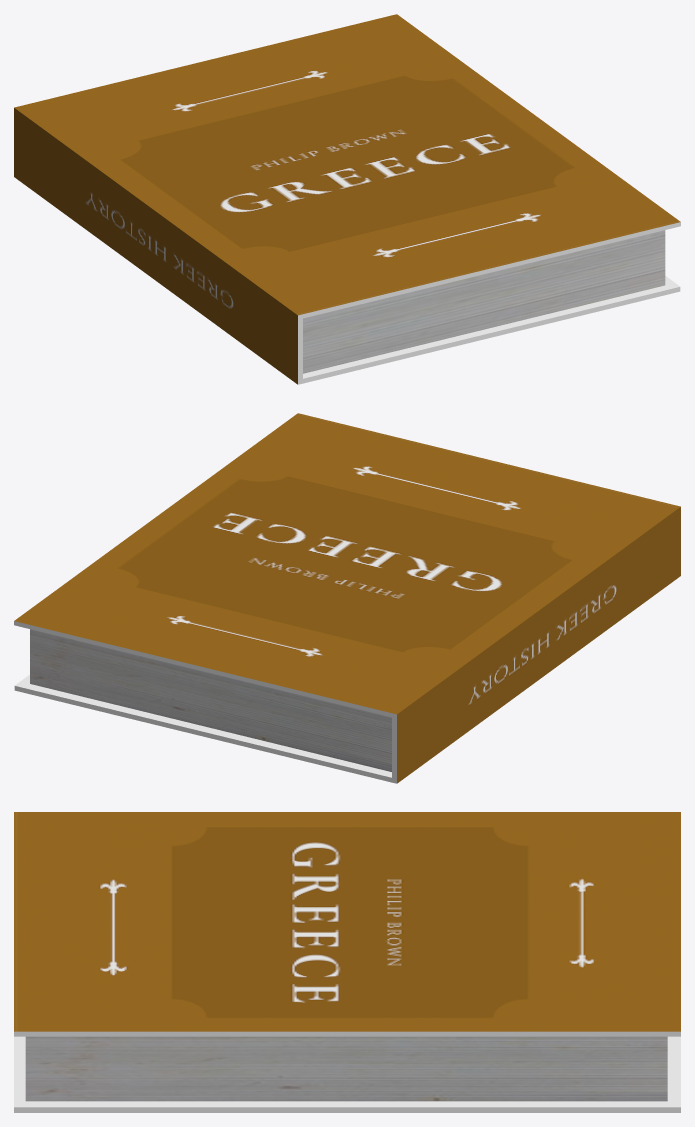
Rendered from Book 2.fbx.
The picture shows the model from 3 angles, top to bottom: view 1: azimuth 30°, elevation 25°; view 2: azimuth 150°, elevation 25°; view 3: azimuth 270°, elevation 25°; orthographic projection. The views are drawn at different scales.
Visible parts, largest first — view 1: book 2; view 2: book 2; view 3: book 2.
Part boxes in pixels (box(x1,y1,x2,y2)): book 2: box(14, 14, 680, 384); book 2: box(14, 413, 680, 783); book 2: box(14, 812, 680, 1112).
Bounding box in the file's own units: 6.23 × 1.08 × 8.
Materials: 1 (1 with a texture image).
